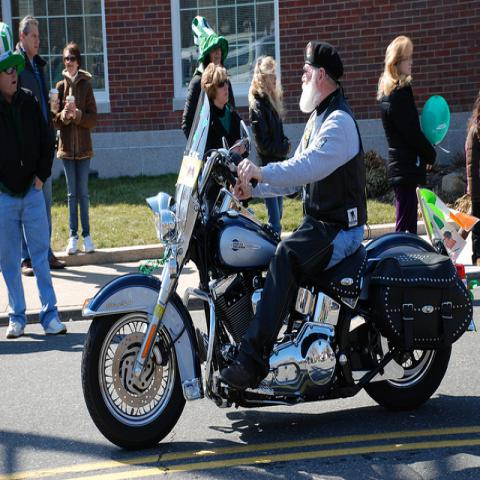motorcycle: (78, 95, 469, 448)
